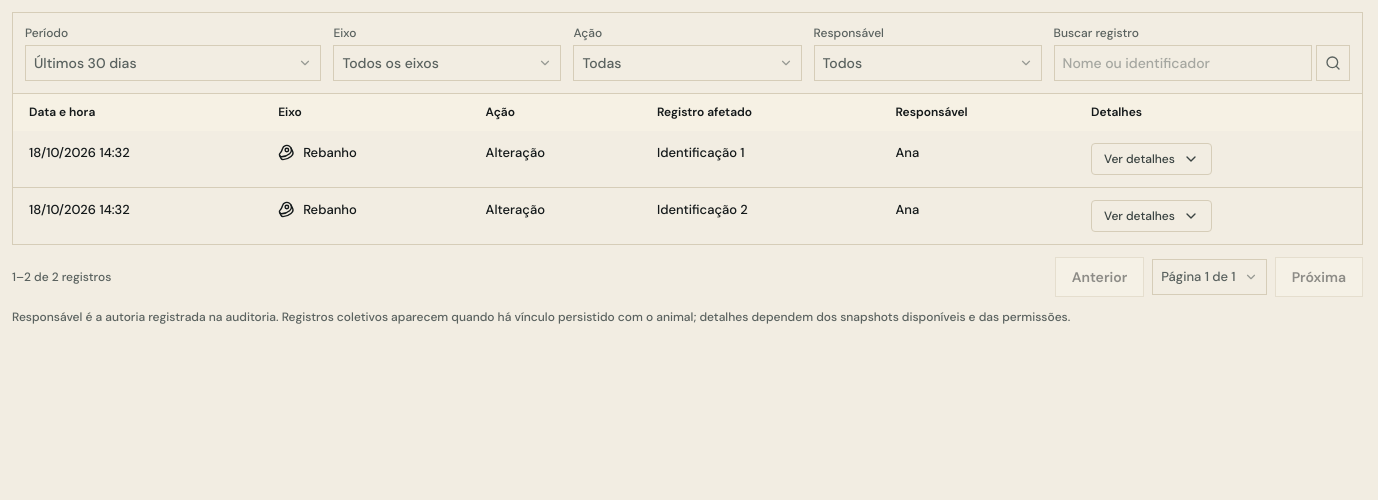
AuditoriaAnimal › expande somente a linha selecionada em Campo/Antes/Depois e preserva null
This screenshot has width=1378, height=500.
Check: the text "Identificação 1" is shown, box [641,131,879,187]
Click the button "Ver detalhes" in the row of "Identificação 1" at (1152,159), box [1091,143,1212,175]
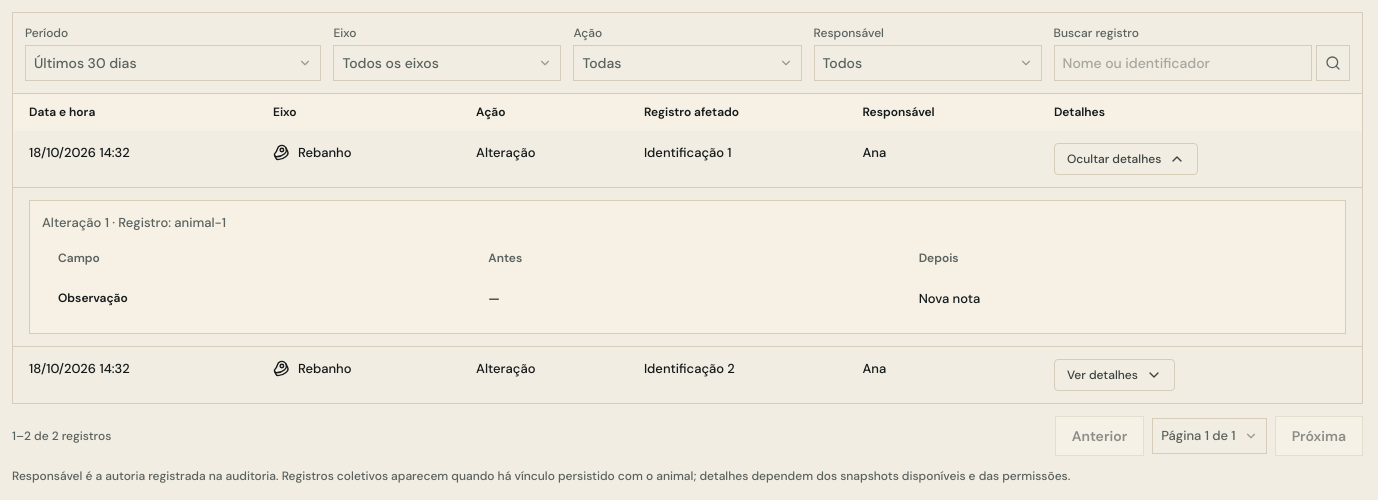
Check: the button "Ocultar detalhes" is expanded, box [1054,143,1198,175]
Check: the column heading "Antes" is shown, box [472,240,903,277]
Check: the text "—" is shown, box [472,277,903,321]
